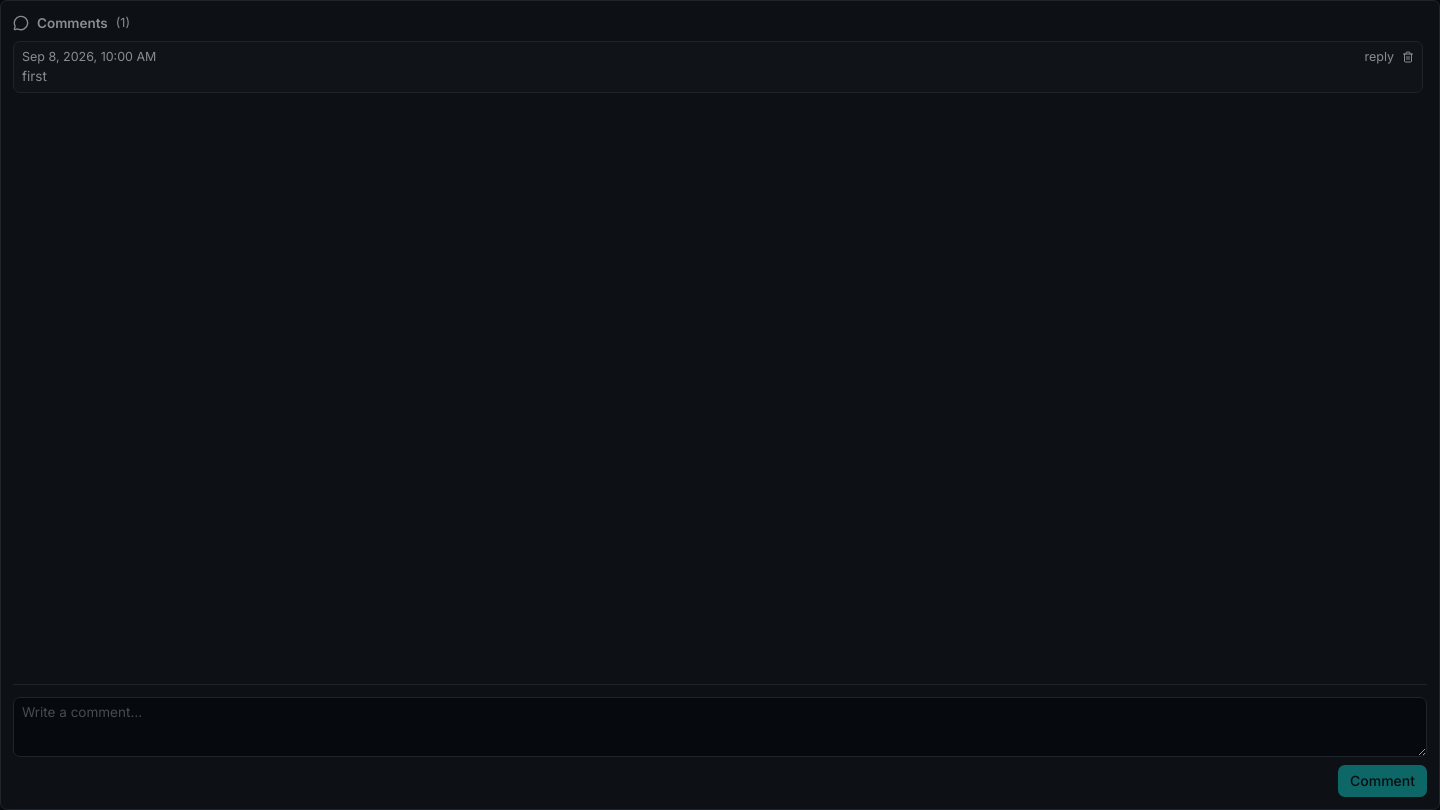
CommentThread delete (EVT-29) › asks first, and a cancelled delete deletes nothing
This screenshot has width=1440, height=810.
What coordinates should you click on to do the following:
click the button named "Delete comment"
I would click on:
 (1408, 57)
Its box is [1402,51,1414,63].
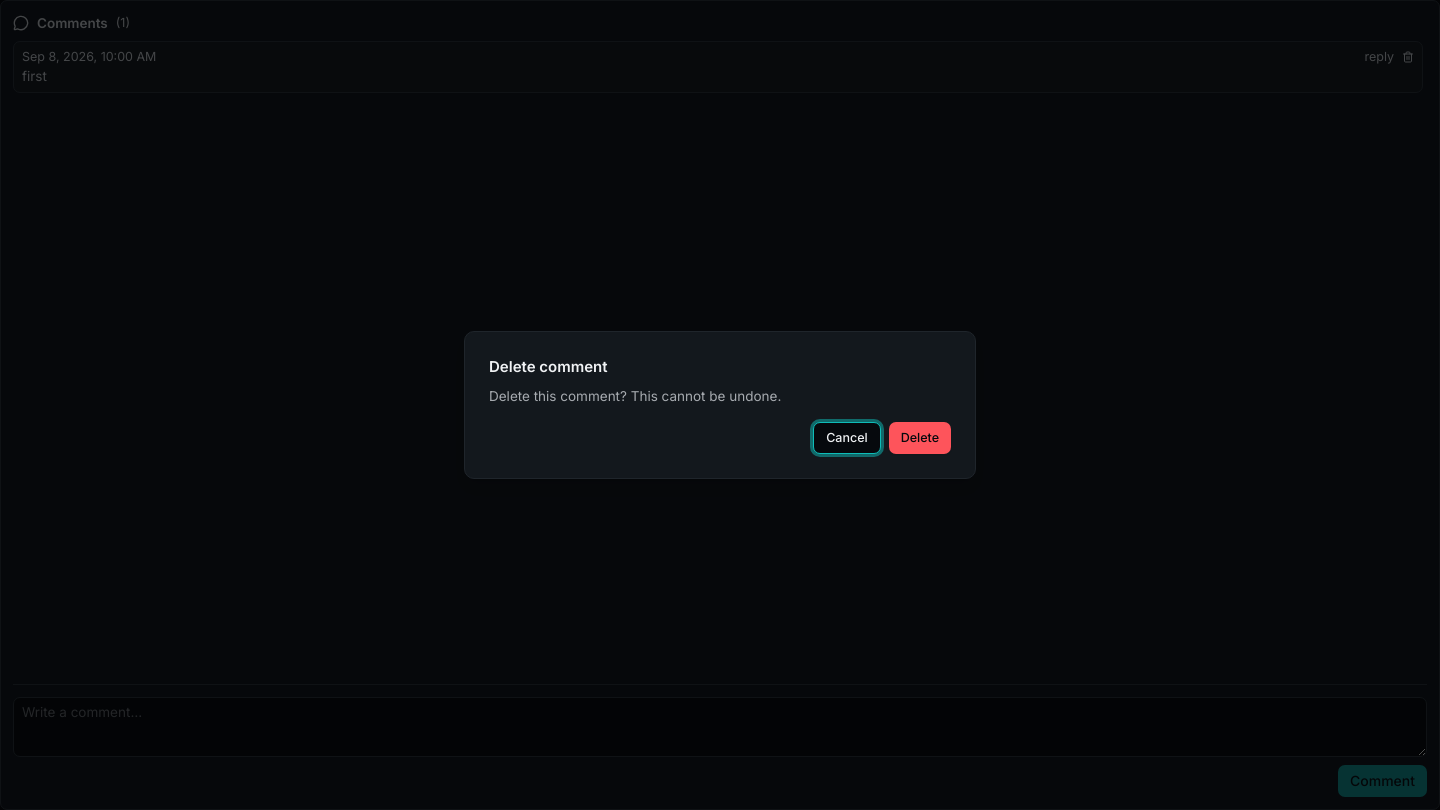
expect the dialog shows "Delete this comment? This cannot be undone.": met, box [489,388,781,404]
What coordinates should you click on to do the following:
click the button "Cancel"
I would click on:
 (847, 438)
Its box is [813,422,881,454].
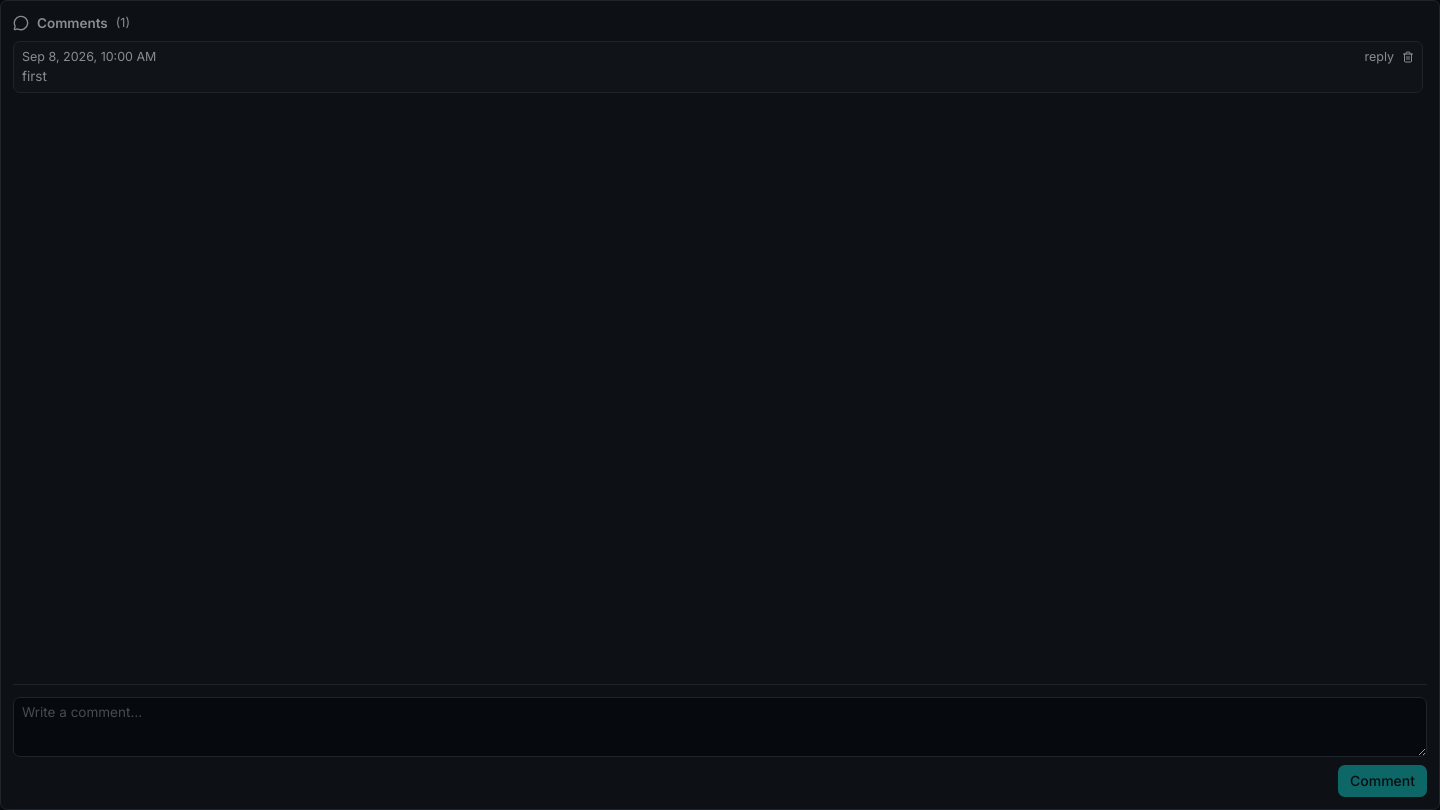
expect the dialog is gone: met
